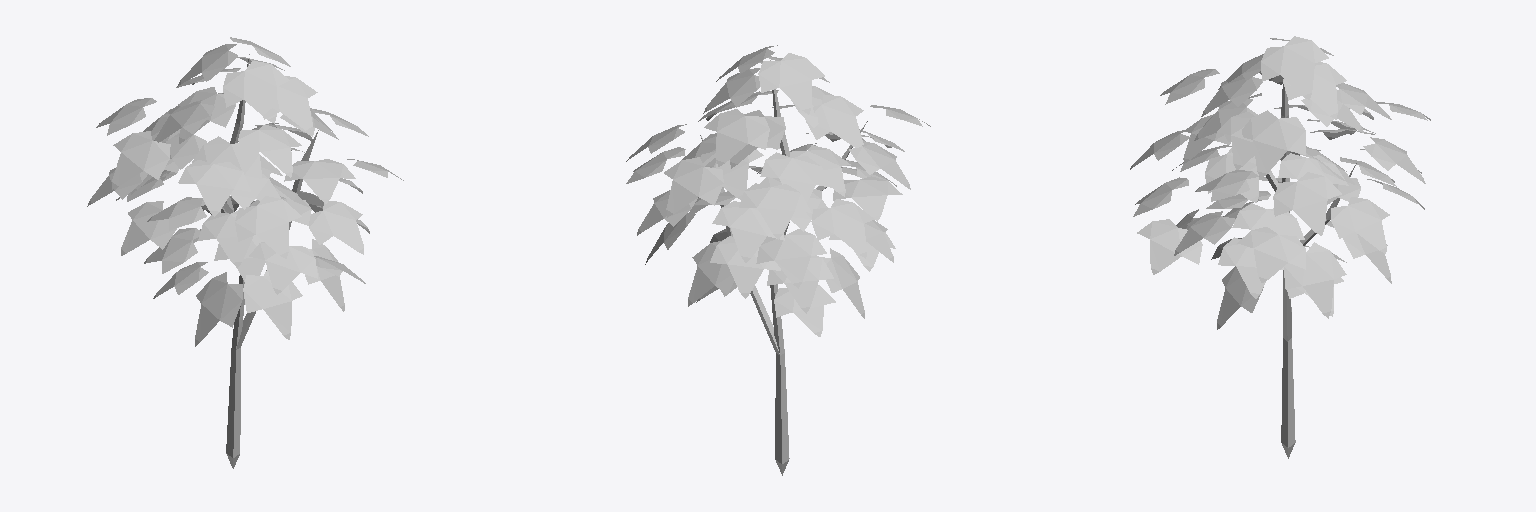
The model's file is Tiny-Tree.obj.
3 renders of one model, left to right at view 1: azimuth 30°, elevation 25°; view 2: azimuth 150°, elevation 25°; view 3: azimuth 270°, elevation 25°, orthographic.
Parts seen in each view (by area): view 1: Tiny_Tree; view 2: Tiny_Tree; view 3: Tiny_Tree.
Part boxes in pixels (bbox=[...]): Tiny_Tree: bbox=[87, 37, 403, 468]; Tiny_Tree: bbox=[626, 45, 930, 475]; Tiny_Tree: bbox=[1130, 36, 1430, 458].
Size of the model in its own units: 56.56 by 79.96 by 51.63.